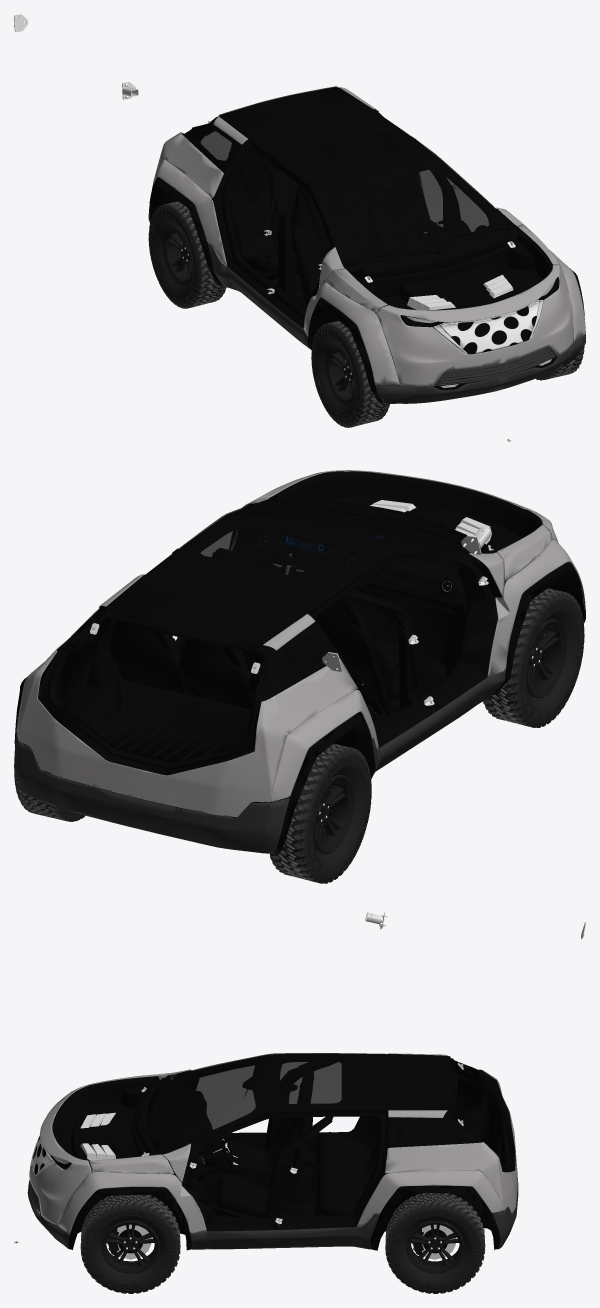
The model's file is suv.glb.
3 views of the same model, one above another, from view 1: azimuth 30°, elevation 25°; view 2: azimuth 150°, elevation 25°; view 3: azimuth 270°, elevation 25° (orthographic). The views are drawn at different scales.
Parts seen in each view (by area): view 1: Cube.040_plastic_smooth_0, Object_463, Cube.020_body_0, Cube.027_plasticMatte_0, wheel_701_Material.010_0, wheel_701_wheel_nitto_0, Cube.036_plastic_matte_0, wheel_701_wheel_disk_0, Cube.169_grill_0, Object_169, Object_199, windshield_whiper_175_windshield_whipers_0; view 2: Cube.040_plastic_smooth_0, Object_463, Cube.020_body_0, Cube.027_plasticMatte_0, wheel_701_Material.010_0, wheel_701_wheel_nitto_0, wheel_701_wheel_disk_0, Cube.036_plastic_matte_0, Cube.054_rubber_0, Object_95, Object_199, Object_169 (+3 smaller); view 3: Cube.040_plastic_smooth_0, Object_463, Cube.020_body_0, wheel_701_Material.010_0, Cube.027_plasticMatte_0, wheel_701_wheel_nitto_0, Cube.036_plastic_matte_0, wheel_701_wheel_disk_0, Cube.280_floormat_0, Object_169, wheel_701_brakedisk_0.
Part boxes in pixels (left/top/right/bottom): Cube.040_plastic_smooth_0: left=150, top=87, right=574, bottom=441; Object_463: left=184, top=86, right=511, bottom=440; Cube.020_body_0: left=151, top=87, right=585, bottom=441; Cube.027_plasticMatte_0: left=148, top=202, right=585, bottom=403; wheel_701_Material.010_0: left=149, top=203, right=583, bottom=425; wheel_701_wheel_nitto_0: left=148, top=201, right=584, bottom=427; Cube.036_plastic_matte_0: left=149, top=177, right=584, bottom=403; wheel_701_wheel_disk_0: left=162, top=226, right=355, bottom=404; Cube.169_grill_0: left=441, top=301, right=539, bottom=353; Object_169: left=208, top=121, right=513, bottom=310; Object_199: left=14, top=14, right=515, bottom=293; windshield_whiper_175_windshield_whipers_0: left=347, top=225, right=511, bottom=263; Cube.040_plastic_smooth_0: left=19, top=471, right=584, bottom=851; Object_463: left=61, top=500, right=470, bottom=697; Cube.020_body_0: left=16, top=470, right=585, bottom=817; Cube.027_plasticMatte_0: left=14, top=609, right=585, bottom=853; wheel_701_Material.010_0: left=15, top=591, right=583, bottom=880; wheel_701_wheel_nitto_0: left=14, top=588, right=584, bottom=883; wheel_701_wheel_disk_0: left=314, top=620, right=566, bottom=853; Cube.036_plastic_matte_0: left=14, top=500, right=585, bottom=852; Cube.054_rubber_0: left=48, top=612, right=268, bottom=769; Object_95: left=112, top=551, right=363, bottom=673; Object_199: left=90, top=527, right=493, bottom=705; Object_169: left=92, top=500, right=491, bottom=703; Cube.040_plastic_smooth_0: left=15, top=1054, right=515, bottom=1250; Object_463: left=16, top=1053, right=473, bottom=1242; Cube.020_body_0: left=14, top=1053, right=517, bottom=1243; wheel_701_Material.010_0: left=82, top=1193, right=483, bottom=1292; Cube.027_plasticMatte_0: left=27, top=1155, right=518, bottom=1249; wheel_701_wheel_nitto_0: left=80, top=1193, right=485, bottom=1293; Cube.036_plastic_matte_0: left=68, top=1075, right=499, bottom=1250; wheel_701_wheel_disk_0: left=102, top=1221, right=463, bottom=1273; Cube.280_floormat_0: left=212, top=1165, right=314, bottom=1216; Object_169: left=80, top=1065, right=462, bottom=1224; wheel_701_brakedisk_0: left=117, top=1224, right=455, bottom=1259.
Bounding box in the file's own units: 3.11 × 2.54 × 5.37.
Materials: 37 (2 with a texture image).
